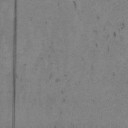surface scratch: (12, 0, 17, 128), (73, 1, 76, 8)
